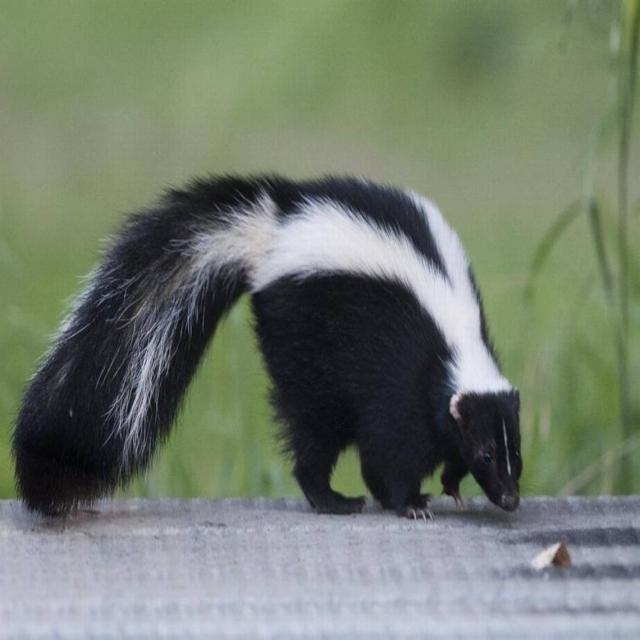Skunk: (0, 152, 537, 530)
